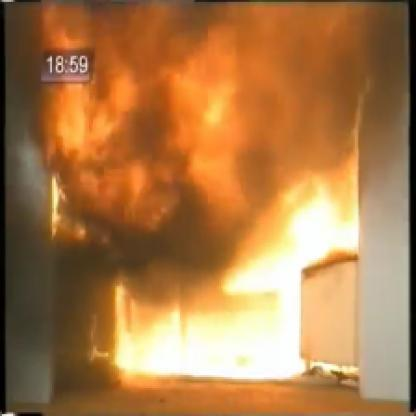fire: (60, 53, 267, 214), (190, 163, 371, 335)
